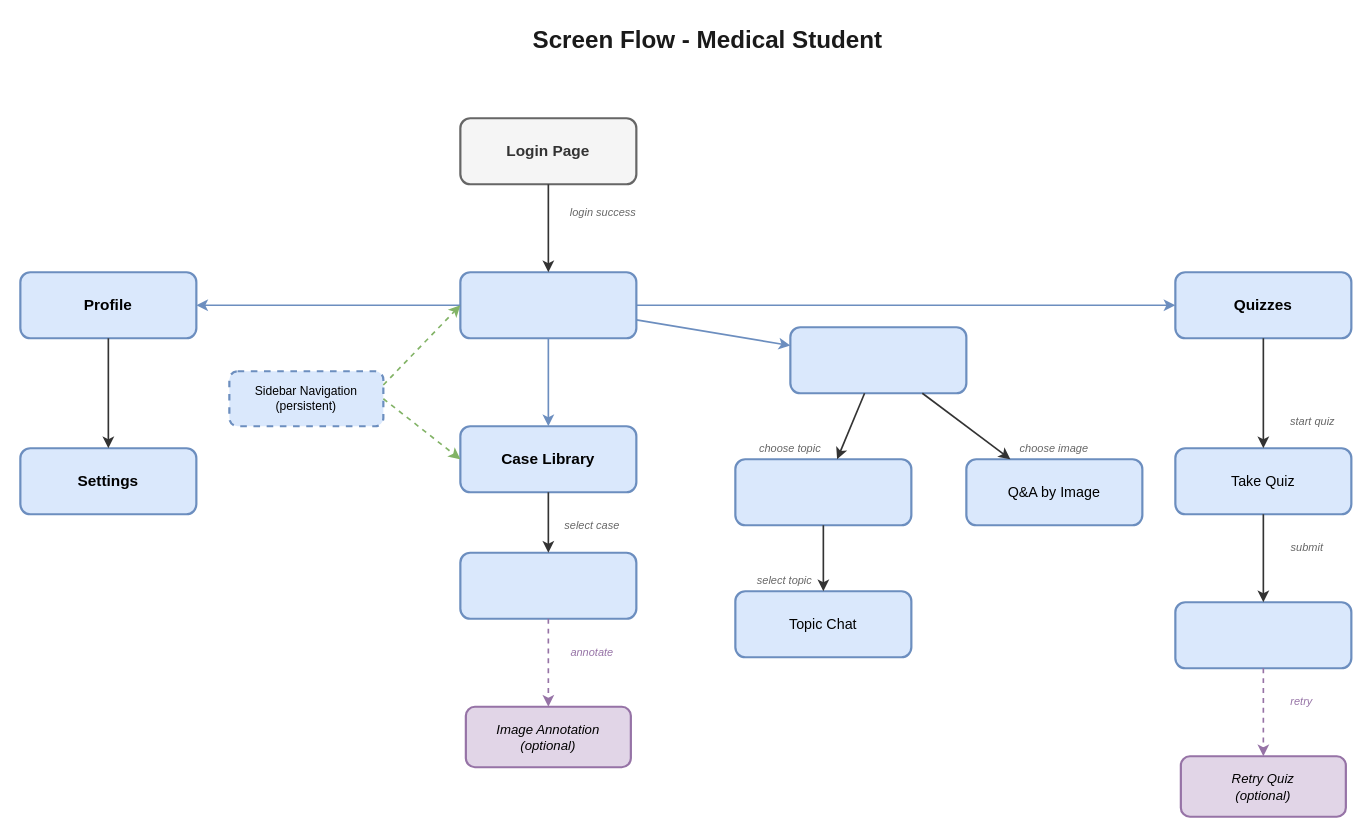
This 1371x836 diagram has some shape labels left out. Here are the shapes that lost their labels. From the top down, the box of each, then its label:
(459, 271, 637, 339): Dashboard
(789, 326, 967, 394): AI Q&A
(734, 458, 912, 526): Q&A by Topic
(459, 551, 637, 619): Case Detail
(1174, 601, 1352, 669): Quiz Result
